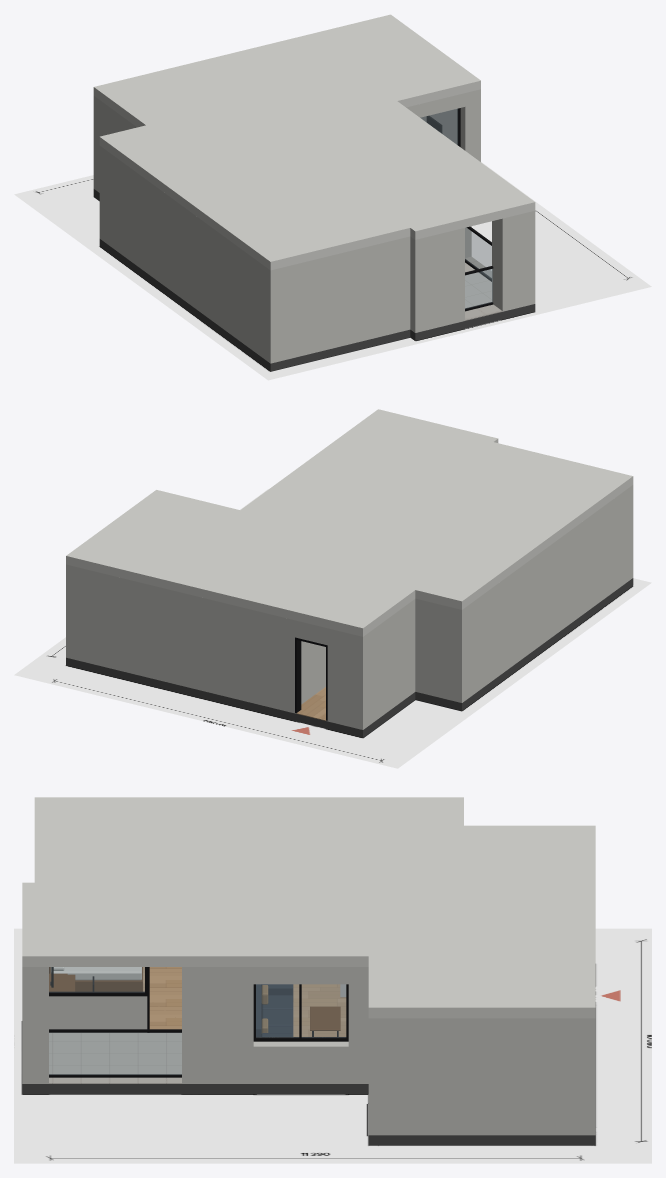
The model's file is D601_Mocca_flat.obj.
3 views of the same model, one above another, from view 1: azimuth 30°, elevation 25°; view 2: azimuth 150°, elevation 25°; view 3: azimuth 270°, elevation 25° (orthographic). The views are drawn at different scales.
Visible parts, largest first — view 1: Ceiling, Walls, Reference_plan_(hide_for_renders), Floor_slab, Floor_08_Loggia, Loggia_railing_south, Loggia_railing_east, Room_04_window; view 2: Ceiling, Walls, Reference_plan_(hide_for_renders), Floor_slab, Front_door_frame; view 3: Ceiling, Walls, Reference_plan_(hide_for_renders), Floor_08_Loggia, Loggia_railing_east, Floor_slab, Living_window, Room_03_loggia_window, Floor_03_Bedroom, Sofa, Floor_02_Living_room_+_kitchen, Bed_03 (+1 smaller).
Part boxes in pixels (<box>): Ceiling: <box>93,14,535,270</box>; Walls: <box>93,89,535,363</box>; Reference_plan_(hide_for_renders): <box>14,162,651,380</box>; Floor_slab: <box>93,189,535,371</box>; Floor_08_Loggia: <box>465,256,502,320</box>; Loggia_railing_south: <box>465,266,493,311</box>; Loggia_railing_east: <box>465,226,491,281</box>; Room_04_window: <box>421,108,460,146</box>; Ceiling: <box>66,409,633,636</box>; Walls: <box>66,485,633,729</box>; Reference_plan_(hide_for_renders): <box>14,489,651,768</box>; Floor_slab: <box>66,578,633,737</box>; Front_door_frame: <box>295,637,327,720</box>; Ceiling: <box>22,797,595,1018</box>; Walls: <box>22,967,595,1135</box>; Reference_plan_(hide_for_renders): <box>14,928,651,1163</box>; Floor_08_Loggia: <box>49,1033,181,1083</box>; Loggia_railing_east: <box>49,1029,181,1077</box>; Floor_slab: <box>22,1032,595,1145</box>; Living_window: <box>253,984,348,1041</box>; Room_03_loggia_window: <box>49,967,147,996</box>; Floor_03_Bedroom: <box>143,967,181,1029</box>; Sofa: <box>256,984,293,1036</box>; Floor_02_Living_room_+_kitchen: <box>293,984,346,1036</box>; Bed_03: <box>49,967,142,991</box>.
Bounding box in the file's own units: 11.72 × 3.21 × 13.45.
Materials: 19 (4 with a texture image).
